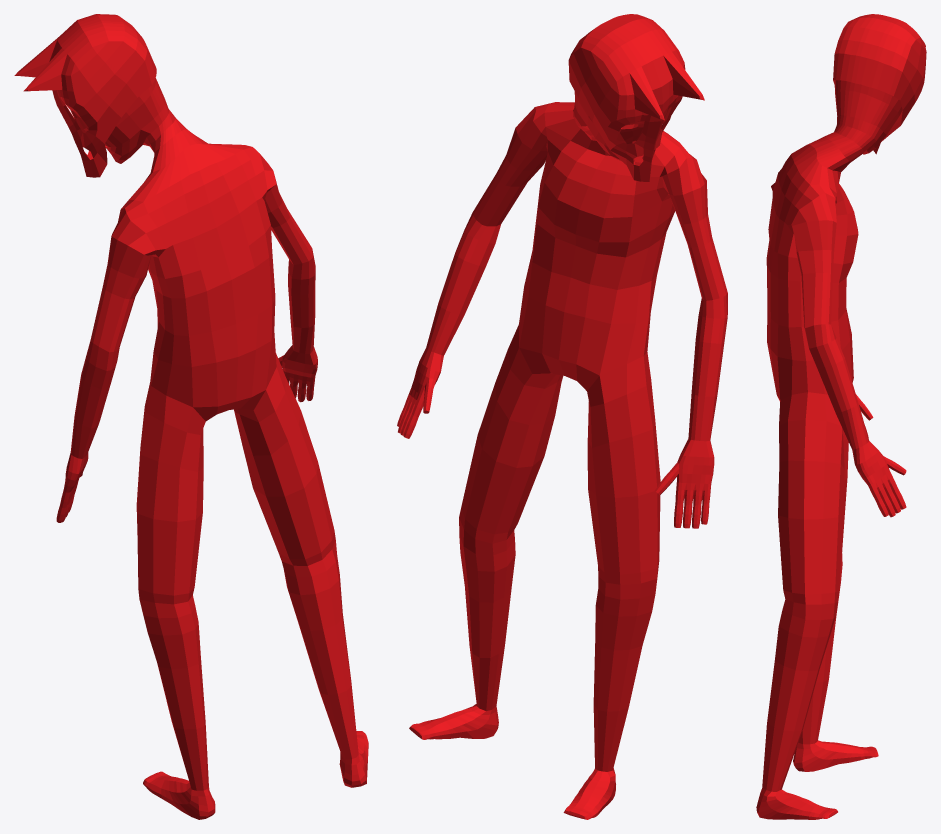
File: reposoE_000264.obj
The picture shows the model from 3 angles, left to right: view 1: azimuth 30°, elevation 25°; view 2: azimuth 150°, elevation 25°; view 3: azimuth 270°, elevation 25°; orthographic projection. The views are drawn at different scales.
Visible parts, largest first — view 1: Plane.002_Plane.001; view 2: Plane.002_Plane.001; view 3: Plane.002_Plane.001.
Boxes of the visible parts, bbox=[...] form: Plane.002_Plane.001: bbox=[14, 14, 368, 819]; Plane.002_Plane.001: bbox=[397, 14, 727, 819]; Plane.002_Plane.001: bbox=[756, 14, 926, 819].
Size of the model in its own units: 2.91 by 6.97 by 1.49.
